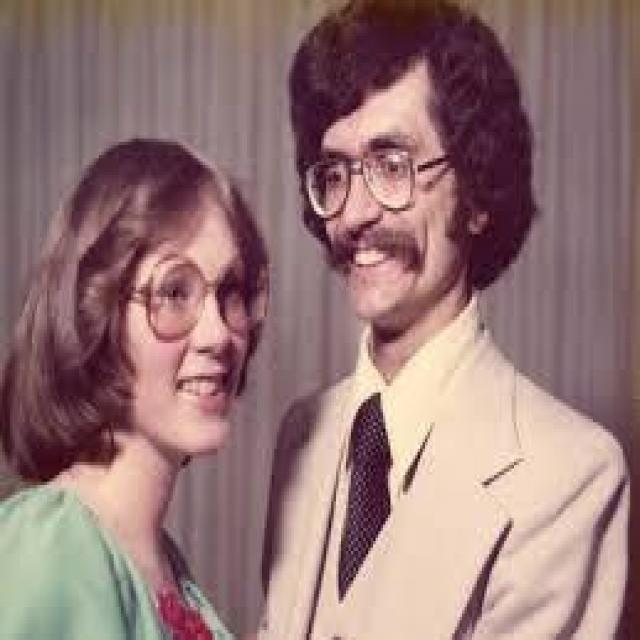person: (252, 0, 635, 637), (2, 136, 280, 634)
